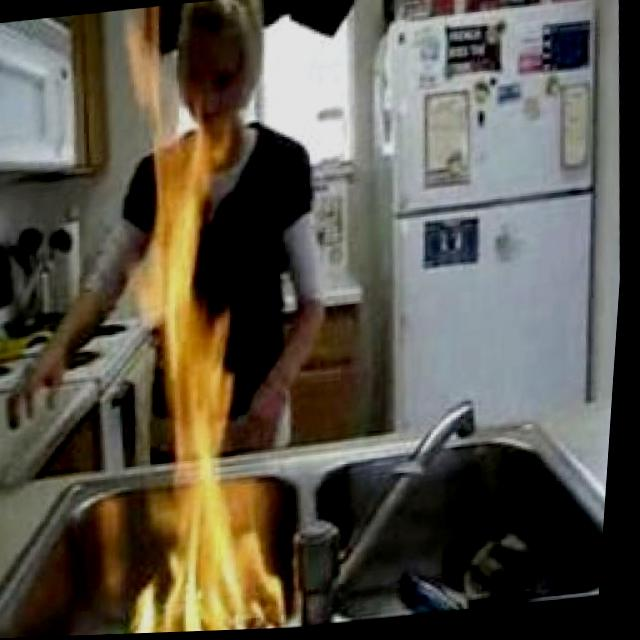Fire: (105, 114, 325, 636)
